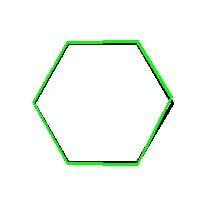line_segment: (33, 41, 175, 165)
